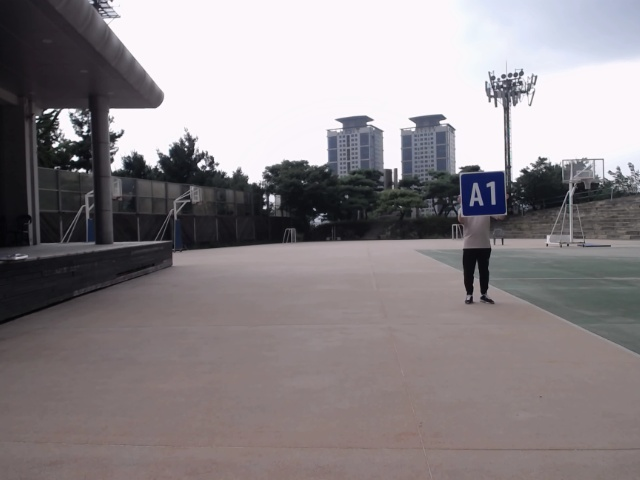delivery_a1: (461, 171, 507, 216)
